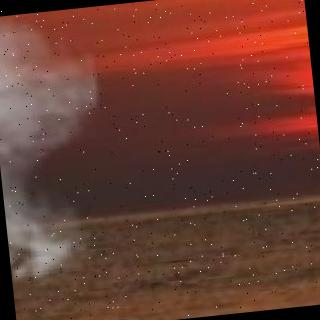smoke: (0, 5, 135, 284)
